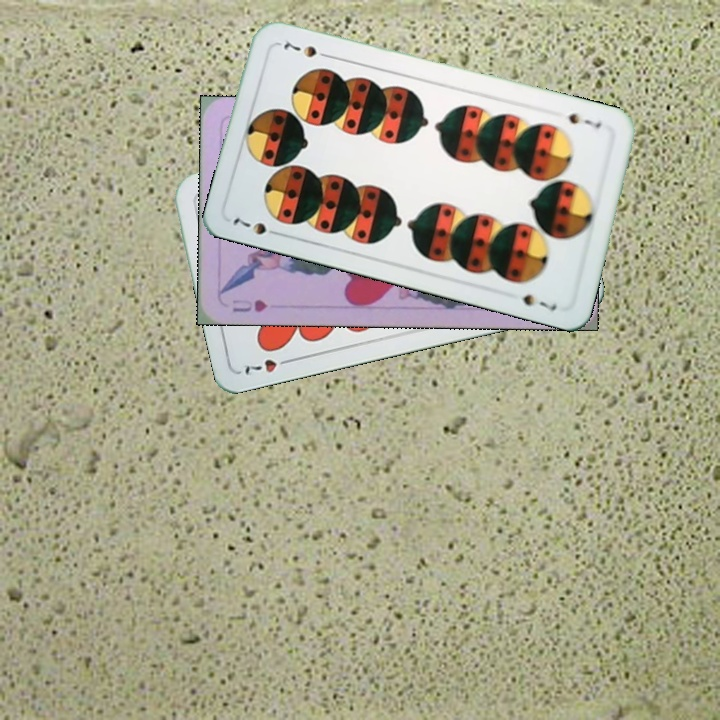H7: (239, 354, 297, 377)
HU: (228, 295, 269, 315)
S7: (228, 213, 285, 239), (564, 109, 604, 131)
